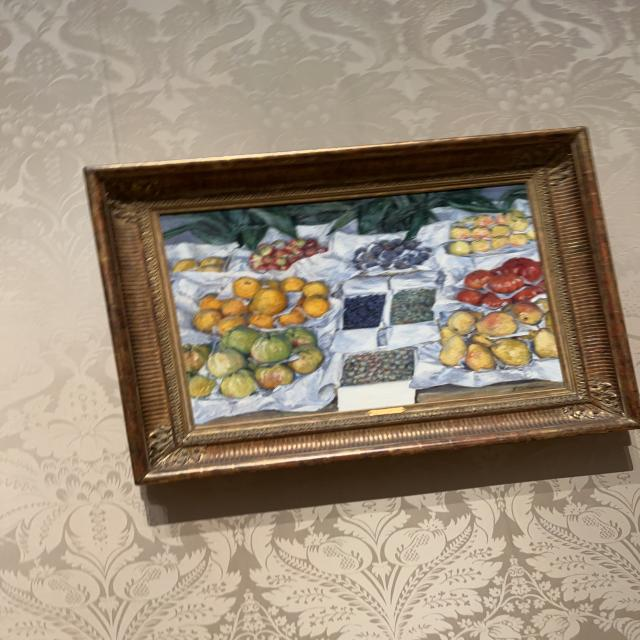fruits: (161, 187, 561, 424)
